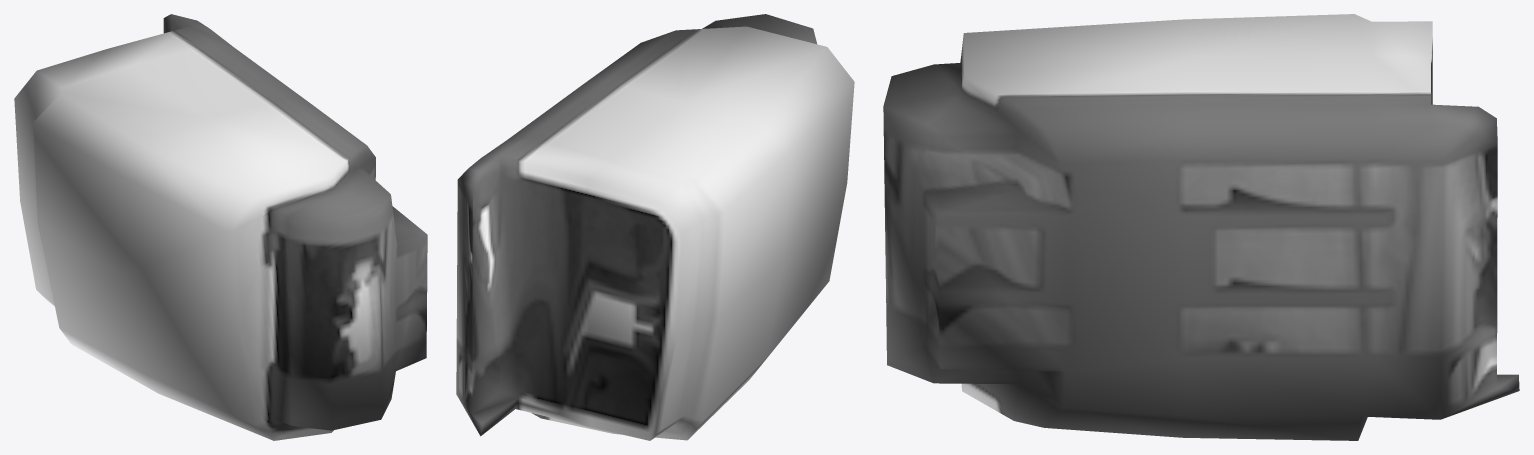
Rendered from hand_finger_1.dae.
3 views of the same model, side by side, from view 1: azimuth 30°, elevation 25°; view 2: azimuth 150°, elevation 25°; view 3: azimuth 270°, elevation 25° (orthographic). The views are drawn at different scales.
Parts seen in each view (by area): view 1: default; view 2: default; view 3: default.
Boxes of the visible parts, <box> form: default: <box>14,14,427,440</box>; default: <box>456,14,854,440</box>; default: <box>883,14,1519,440</box>.
Size of the model in its own units: 0.0337 by 0.0659 by 0.0383.
Materials: 1 (1 with a texture image).
